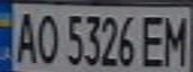2: (100, 11, 121, 68)
3: (81, 11, 103, 68)
5: (60, 10, 84, 66)
6: (118, 11, 142, 69)
A: (9, 8, 39, 64)
E: (139, 11, 169, 69)
M: (160, 11, 190, 68)
O: (33, 8, 60, 65)
